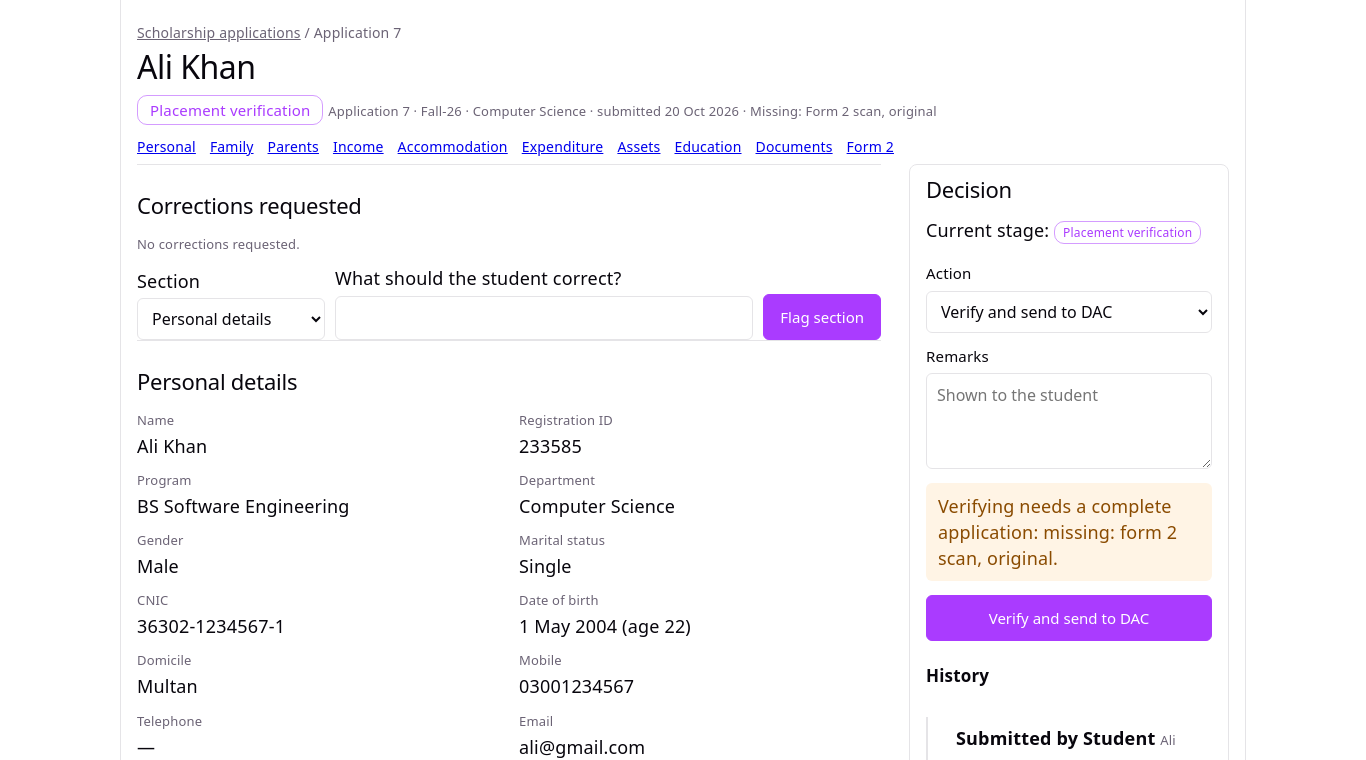
Test: verifying an incomplete application is explained before and after saving
Expected: the text "Verifying needs a complete application" is shown, left=938, top=494, right=1172, bottom=544
Click the button "Verify and send to DAC" at (1069, 618), box left=926, top=595, right=1212, bottom=641
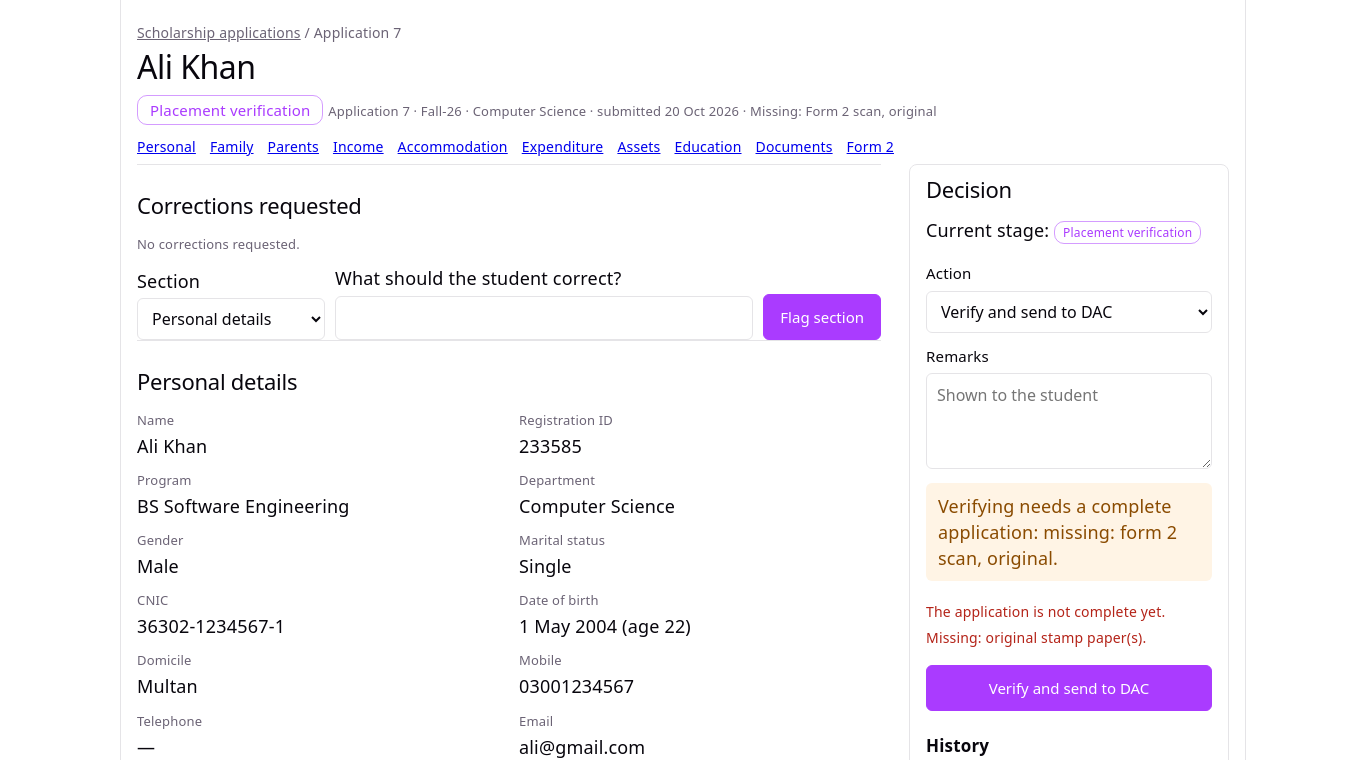
Now the message shows "not complete yet", box left=926, top=602, right=1165, bottom=647
